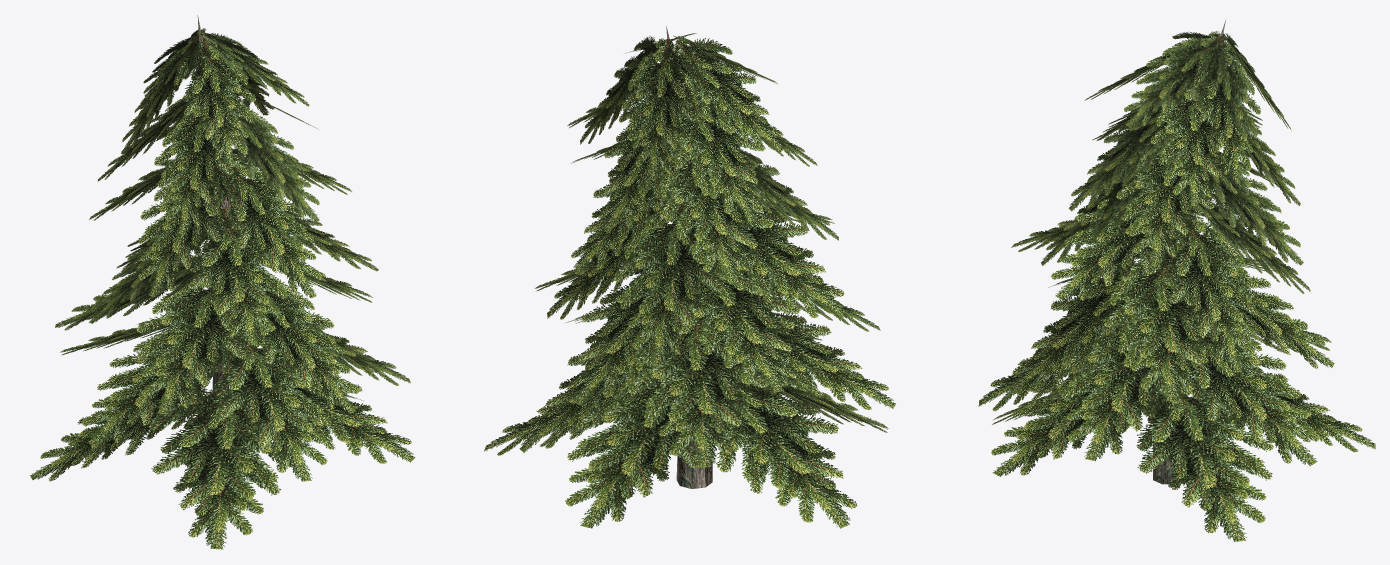
The model's file is fp_spruce_1.glb.
The picture shows the model from 3 angles, left to right: view 1: azimuth 30°, elevation 25°; view 2: azimuth 150°, elevation 25°; view 3: azimuth 270°, elevation 25°; orthographic projection. The views are drawn at different scales.
Visible parts, largest first — view 1: _MeshInstance3D_39; view 2: _MeshInstance3D_39, _MeshInstance3D_38; view 3: _MeshInstance3D_39.
Part boxes in pixels (box(x1,y1,x2,y2)): _MeshInstance3D_39: box(30, 28, 415, 549); _MeshInstance3D_39: box(484, 33, 895, 528); _MeshInstance3D_38: box(666, 26, 712, 488); _MeshInstance3D_39: box(978, 31, 1375, 541).
Size of the model in its own units: 3.76 by 4.32 by 3.62.
2 materials, 2 textured.
